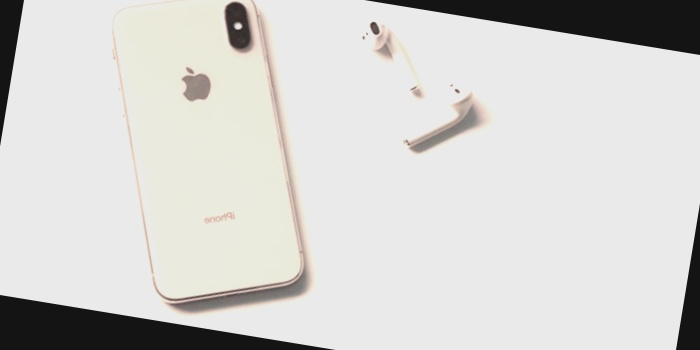iphone: (380, 12, 611, 333)
